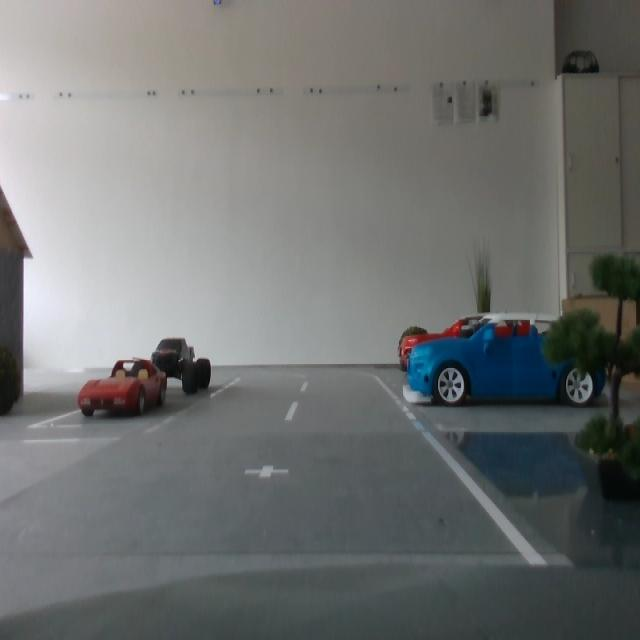car: (407, 313, 607, 408), (401, 316, 599, 393), (78, 357, 168, 417), (151, 337, 213, 396)
potted plant: (538, 252, 640, 498), (470, 242, 495, 353), (2, 339, 20, 426)
